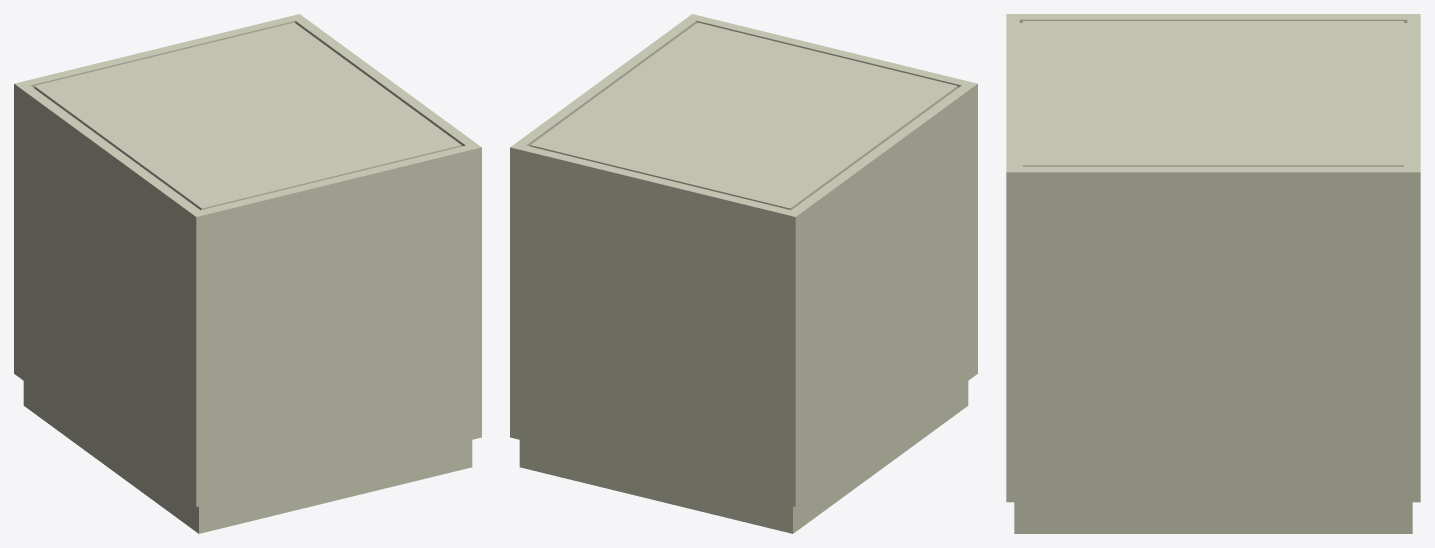
Rendered from mostrador2-sin_vidrio.fbx.
3 renders of one model, left to right at view 1: azimuth 30°, elevation 25°; view 2: azimuth 150°, elevation 25°; view 3: azimuth 270°, elevation 25°, orthographic. The views are drawn at different scales.
Parts seen in each view (by area): view 1: Cube; view 2: Cube; view 3: Cube.
Boxes of the visible parts, <box> form: Cube: <box>14,14,481,533</box>; Cube: <box>510,14,977,533</box>; Cube: <box>1006,14,1420,533</box>.
Size of the model in its own units: 1.48 by 1.59 by 1.63.
